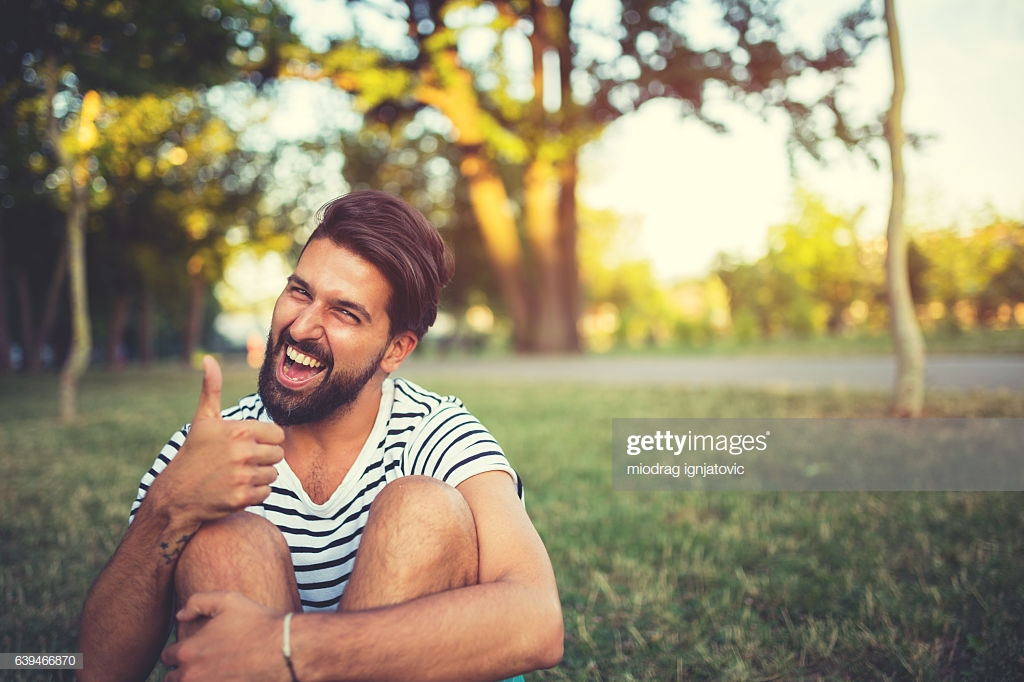thumbsup: (200, 355, 285, 511)
